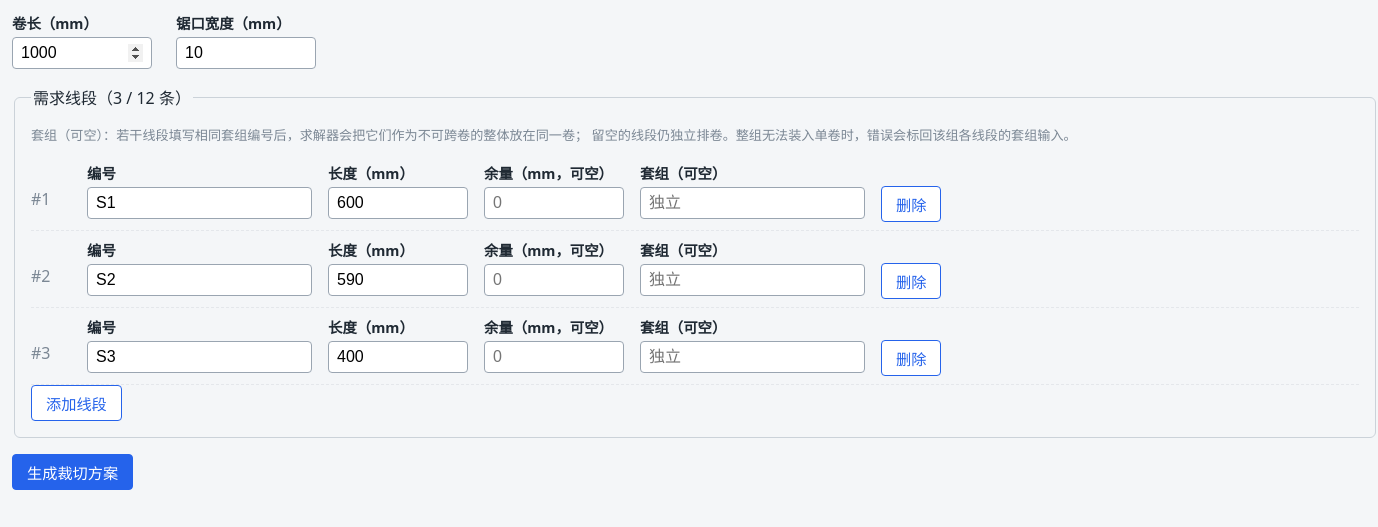
Scenario: PlanForm adjustment flow › rejects a malformed kit id on the client without submitting
Step 1. Type "-bad-" into the field with test id "segment-kit-0" → (752,203), box 640,187 -> 865,219
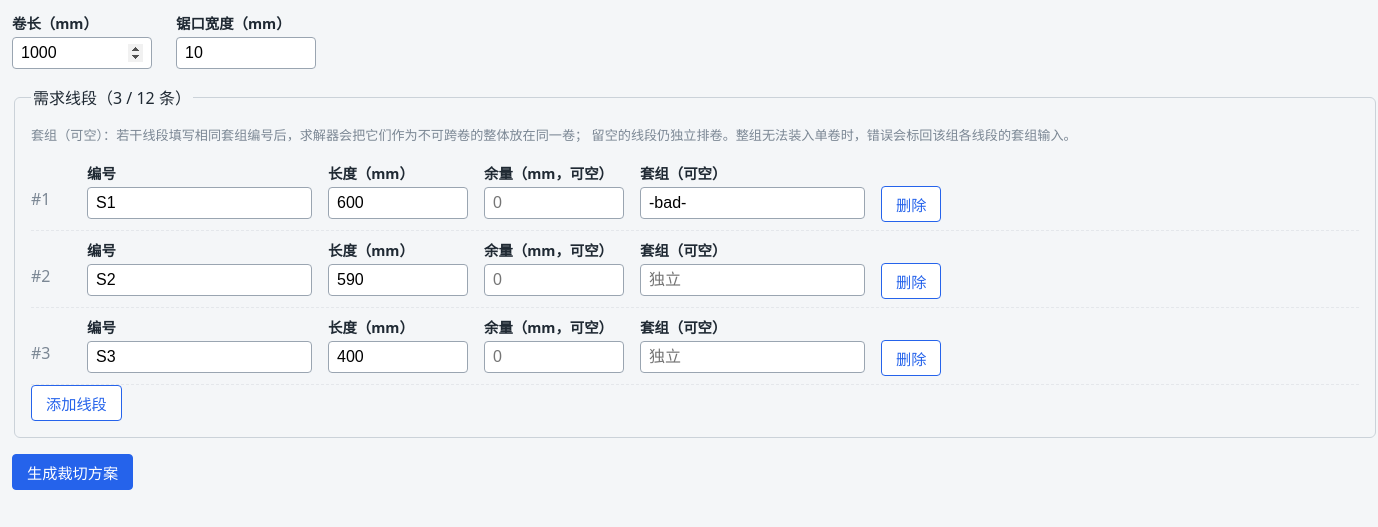
Step 2. Click the button with test id "submit-plan" → (73,472), box 12,454 -> 133,490
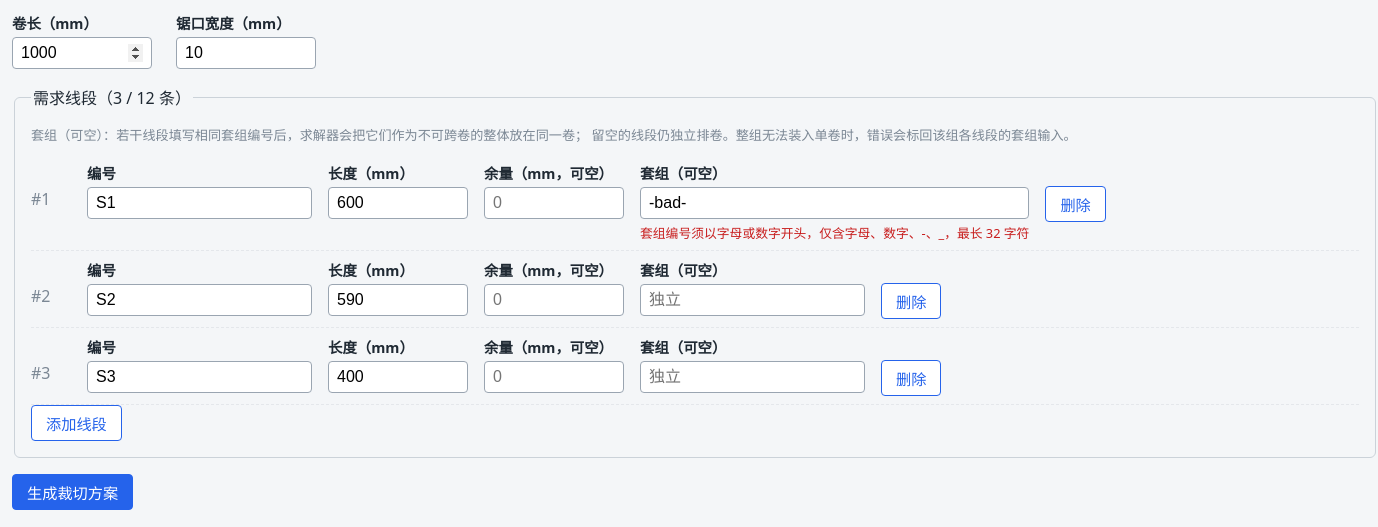
Expected: the text "套组编号须以字母或数字开头，仅含字母、数字、-、_，最长 32 字符" is shown, 640,223 -> 1029,242
